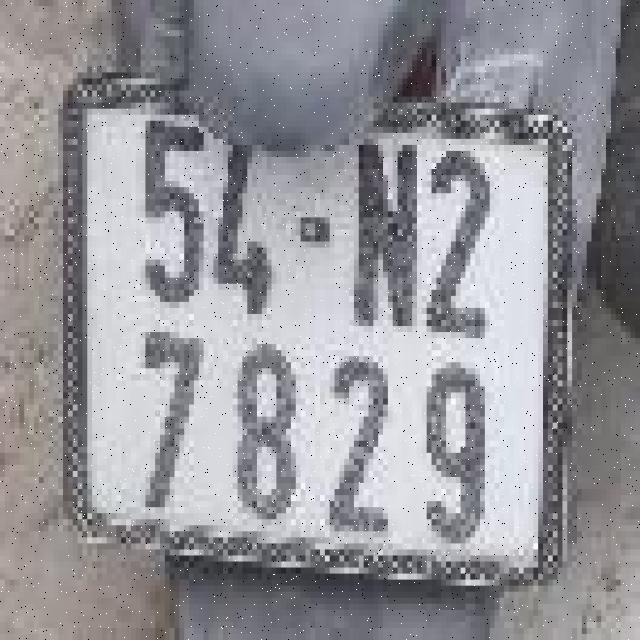2: (426, 133, 494, 344), (325, 344, 393, 550)
4: (211, 109, 279, 326)
5: (138, 100, 211, 311)
7: (126, 320, 209, 525)
8: (228, 332, 305, 537)
9: (417, 353, 495, 559)
N: (344, 124, 427, 341)
